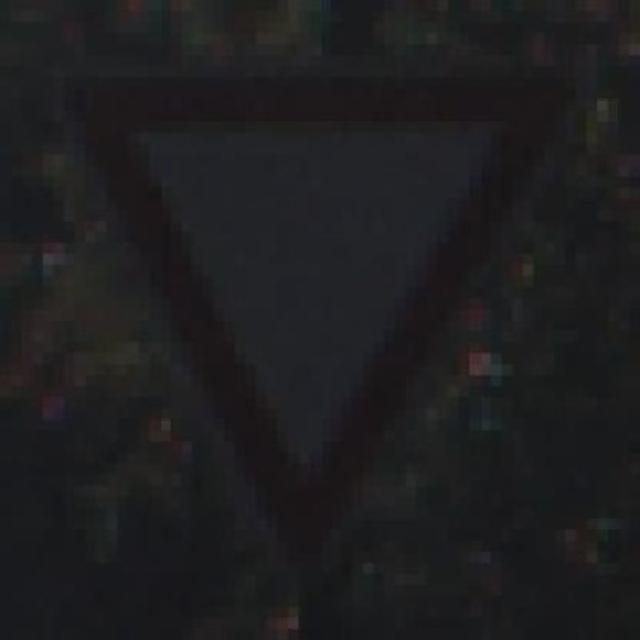Give Way: (48, 32, 560, 563)
